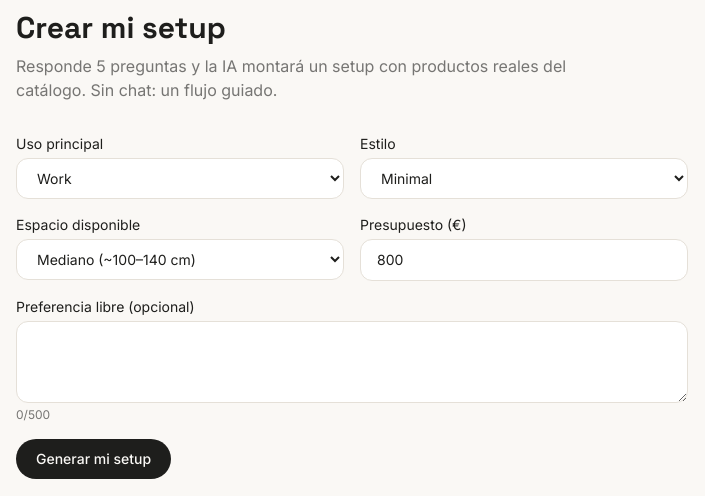
CrearMiSetup › limits the note to 500 characters with a counter
Type "abc" into the text box labelled "Preferencia libre" at x=352, y=362, box [16, 321, 688, 403]
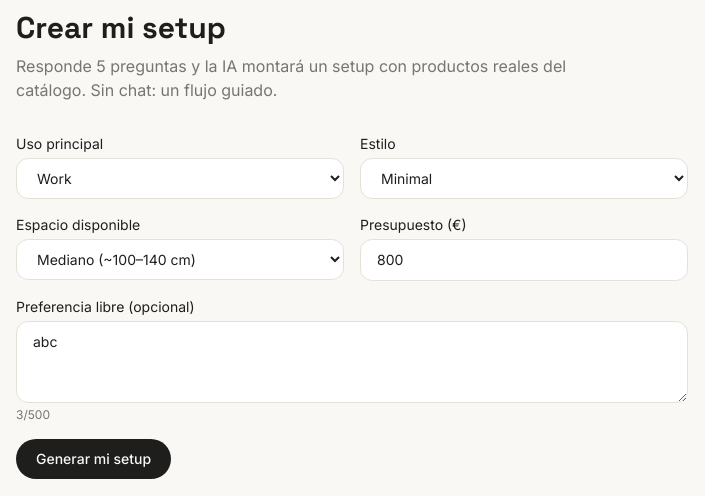
expect the text "3/500" is shown: met, box [16, 407, 50, 422]
